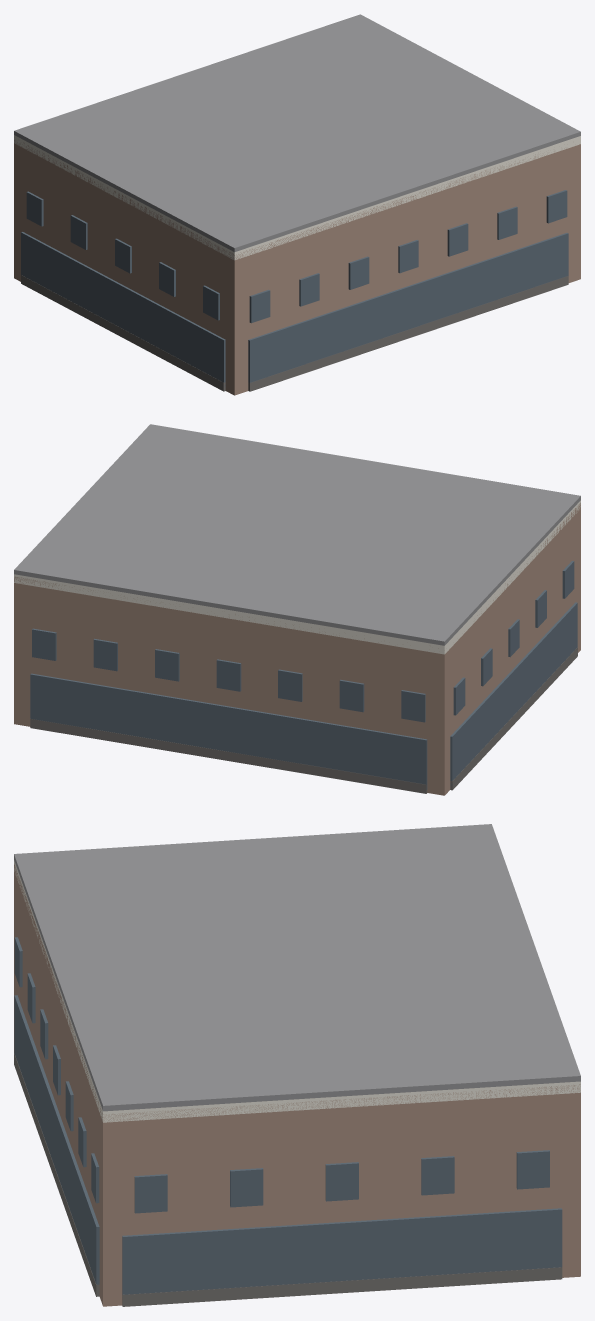
File: s56_gis_248221_820893.glb
The picture shows the model from 3 angles, top to bottom: view 1: azimuth 30°, elevation 25°; view 2: azimuth 150°, elevation 25°; view 3: azimuth 270°, elevation 25°; orthographic projection. The views are drawn at different scales.
Parts seen in each view (by area): view 1: roofcap, mass, store_2, store_1, cornice, bulk_2, bulk_1, win_2_0_0, win_2_0_2, win_2_0_4, win_2_0_6, win_2_0_5 (+4 smaller); view 2: roofcap, mass, store_0, store_1, cornice, bulk_0, bulk_1, win_0_0_3, win_0_0_5, win_0_0_0, win_0_0_2, win_0_0_4 (+2 smaller); view 3: roofcap, mass, store_3, cornice, store_2, bulk_3, win_3_0_0, win_3_0_2, win_3_0_3, win_3_0_1, win_3_0_4, bulk_2.
Boxes of the visible parts, left/top/right/bottom form: roofcap: left=14, top=14, right=580, bottom=252; mass: left=14, top=140, right=580, bottom=395; store_2: left=248, top=233, right=568, bottom=383; store_1: left=21, top=232, right=225, bottom=387; cornice: left=14, top=135, right=580, bottom=260; bulk_2: left=248, top=276, right=568, bottom=391; bulk_1: left=21, top=275, right=225, bottom=391; win_2_0_0: left=249, top=289, right=270, bottom=323; win_2_0_2: left=348, top=256, right=369, bottom=289; win_2_0_4: left=447, top=223, right=468, bottom=256; win_2_0_6: left=546, top=190, right=567, bottom=223; win_2_0_5: left=497, top=206, right=517, bottom=239; roofcap: left=14, top=424, right=580, bottom=645; mass: left=14, top=503, right=580, bottom=795; store_0: left=30, top=673, right=427, bottom=789; store_1: left=450, top=602, right=577, bottom=785; cornice: left=14, top=500, right=580, bottom=654; bulk_0: left=30, top=719, right=427, bottom=793; bulk_1: left=450, top=647, right=577, bottom=790; win_0_0_3: left=216, top=659, right=241, bottom=691; win_0_0_5: left=339, top=679, right=364, bottom=712; win_0_0_0: left=32, top=628, right=56, bottom=660; win_0_0_2: left=155, top=649, right=179, bottom=681; win_0_0_4: left=278, top=669, right=302, bottom=701; roofcap: left=14, top=824, right=580, bottom=1111; mass: left=14, top=864, right=580, bottom=1306; store_3: left=122, top=1208, right=562, bottom=1297; cornice: left=14, top=860, right=580, bottom=1122; store_2: left=14, top=995, right=99, bottom=1284; bulk_3: left=122, top=1267, right=562, bottom=1306; win_3_0_0: left=134, top=1174, right=167, bottom=1213; win_3_0_2: left=325, top=1162, right=358, bottom=1201; win_3_0_3: left=421, top=1156, right=454, bottom=1195; win_3_0_1: left=230, top=1168, right=263, bottom=1207; win_3_0_4: left=516, top=1150, right=549, bottom=1189; bulk_2: left=14, top=1053, right=99, bottom=1296.
Bounding box in the file's own units: 25.18 × 8.35 × 21.37.
